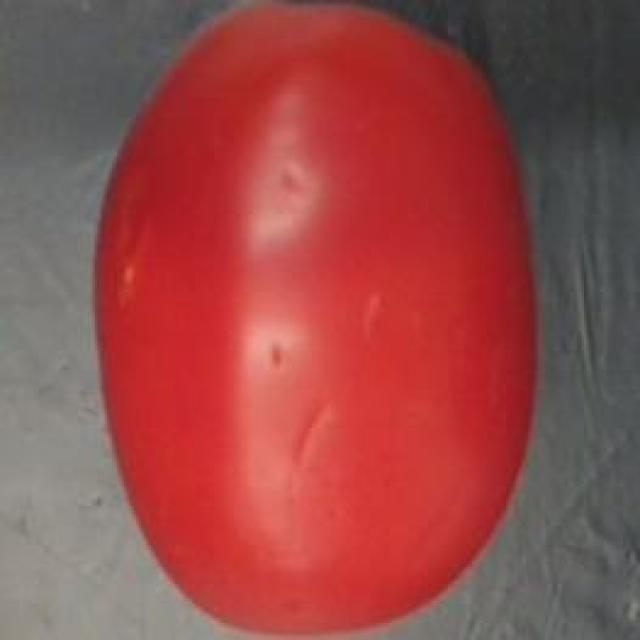ripe tomato: (83, 2, 562, 640)
